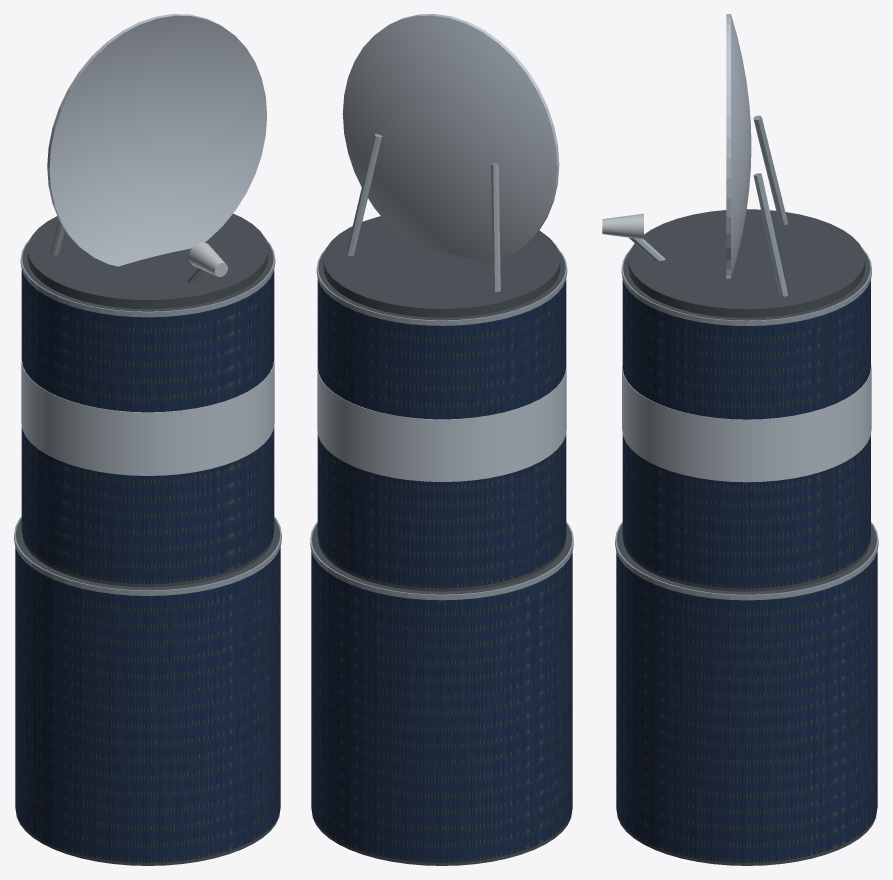
File: sirius-w.glb
3 views of the same model, side by side, from view 1: azimuth 30°, elevation 25°; view 2: azimuth 150°, elevation 25°; view 3: azimuth 270°, elevation 25° (orthographic).
Parts seen in each view (by area): view 1: Cylindrical solar cells (×2), Broadcast reflector, Thermal control belt, Despun antenna platform, Telescoping solar drum (×2), Drum end ring (×2), Offset feed; view 2: Cylindrical solar cells (×2), Broadcast reflector, Thermal control belt, Despun antenna platform, Telescoping solar drum (×2), Drum end ring (×2), Reflector support (×2); view 3: Cylindrical solar cells (×2), Despun antenna platform, Thermal control belt, Broadcast reflector, Telescoping solar drum (×2), Drum end ring (×2), Reflector support (×2), Offset feed.
Part boxes in pixels (x1,y1,x2,y2): Cylindrical solar cells (×2): (15,270,280,862); Broadcast reflector: (47,14,267,266); Thermal control belt: (21,357,274,475); Despun antenna platform: (27,213,268,308); Telescoping solar drum (×2): (15,241,280,865); Drum end ring (×2): (14,238,281,595); Offset feed: (188,242,227,276); Cylindrical solar cells (×2): (311,280,572,862); Broadcast reflector: (342,14,559,262); Thermal control belt: (317,365,566,481); Despun antenna platform: (323,216,560,317); Telescoping solar drum (×2): (311,251,572,865); Drum end ring (×2): (310,247,573,600); Reflector support (×2): (346,134,500,291); Cylindrical solar cells (×2): (616,280,877,862); Despun antenna platform: (628,209,865,317); Thermal control belt: (622,364,871,482); Broadcast reflector: (726,14,751,278); Telescoping solar drum (×2): (616,252,876,865); Drum end ring (×2): (615,247,878,600); Reflector support (×2): (753,115,787,296); Offset feed: (602,213,643,239).
Bounding box in the file's own units: 2.19 × 7.2 × 2.29.
Materials: 5 (1 with a texture image).
